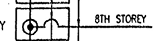Single Phase Tap-Off Unit: (13, 4, 79, 41)
